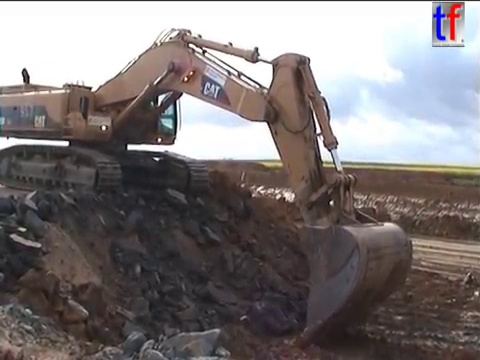excavator: (1, 23, 417, 350)
